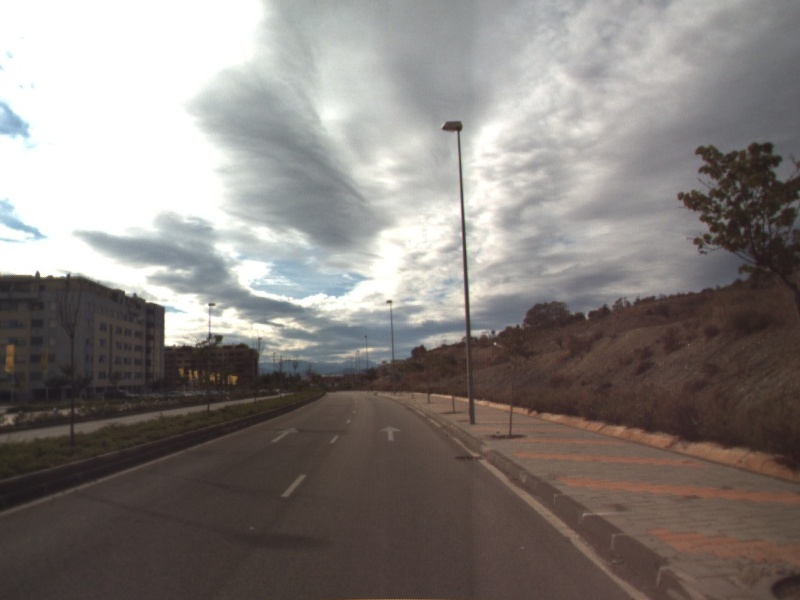STRAIGHT: (268, 425, 300, 445), (377, 424, 404, 443)
